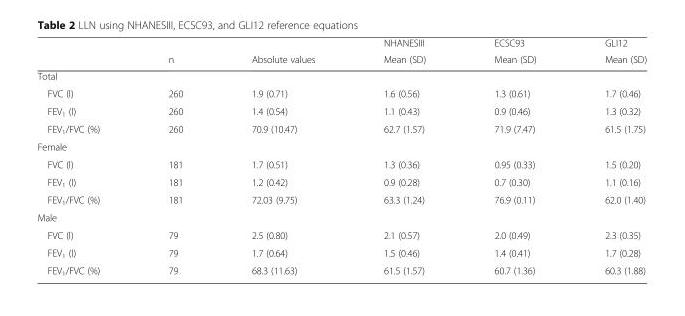table: (36, 36, 646, 276)
table column: (216, 36, 348, 276), (348, 36, 459, 276), (459, 36, 569, 276), (36, 36, 133, 276), (133, 36, 216, 276), (569, 36, 646, 276)
table column header: (36, 36, 646, 67)
table projected row header: (36, 137, 646, 155), (36, 67, 646, 84), (36, 208, 646, 225)
table row: (36, 172, 646, 191), (36, 84, 646, 102), (36, 102, 646, 120), (36, 137, 646, 155), (36, 225, 646, 243), (36, 243, 646, 261), (36, 50, 646, 67), (36, 67, 646, 84), (36, 120, 646, 137), (36, 155, 646, 172), (36, 191, 646, 208), (36, 208, 646, 225), (36, 261, 646, 276), (36, 36, 646, 50)
table spanning cell: (216, 36, 348, 67), (348, 36, 459, 67), (459, 36, 569, 67), (133, 36, 216, 67), (569, 36, 646, 67)
